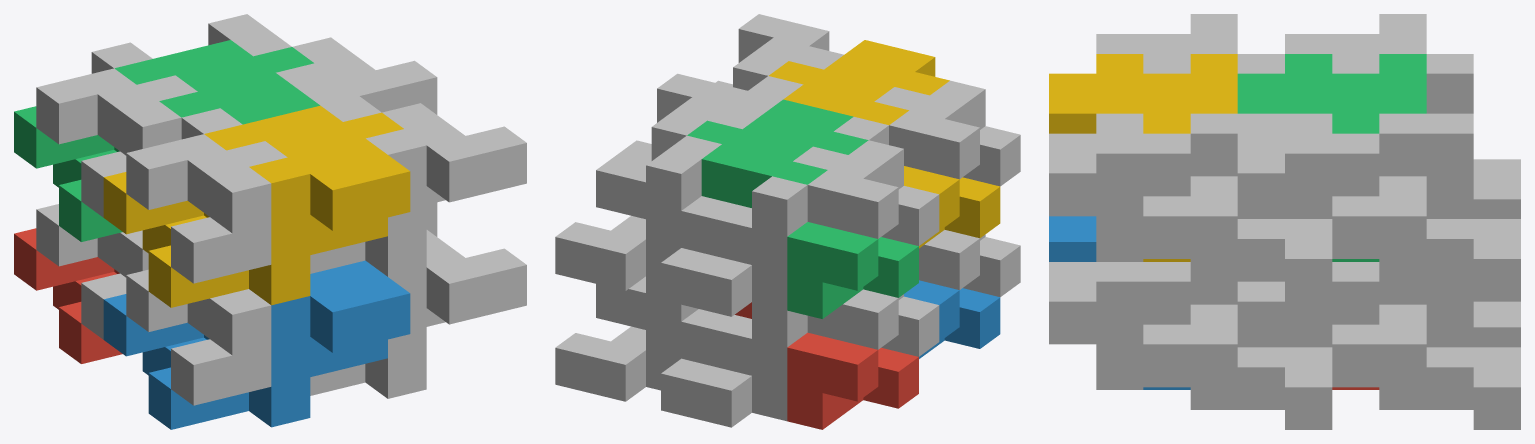
Rendered from tiling.obj.
The picture shows the model from 3 angles, left to right: view 1: azimuth 30°, elevation 25°; view 2: azimuth 150°, elevation 25°; view 3: azimuth 270°, elevation 25°; orthographic projection. The views are drawn at different scales.
Visible parts, largest first — view 1: copy_2_domain_4, copy_4_domain_4, copy_4_domain_8, copy_4_domain_2, copy_2_domain_2, copy_4_domain_6, copy_2_domain_3, copy_1_domain_4, copy_1_domain_2, copy_1_domain_3, copy_2_domain_8, copy_4_domain_7 (+12 smaller); view 2: copy_3_domain_7, copy_3_domain_5, copy_3_domain_3, copy_2_domain_3, copy_1_domain_3, copy_2_domain_4, copy_3_domain_1, copy_1_domain_1, copy_2_domain_1, copy_2_domain_7, copy_4_domain_7, copy_2_domain_2 (+11 smaller); view 3: copy_4_domain_8, copy_3_domain_7, copy_4_domain_6, copy_3_domain_5, copy_4_domain_7, copy_3_domain_8, copy_3_domain_6, copy_4_domain_5, copy_4_domain_4, copy_3_domain_3, copy_2_domain_7, copy_2_domain_8 (+12 smaller).
Part boxes in pixels (box(x1,y1,x2,y2)): copy_2_domain_4: box(126, 134, 287, 283); copy_4_domain_4: box(249, 131, 410, 305); copy_4_domain_8: box(365, 103, 526, 276); copy_4_domain_2: box(249, 270, 410, 427); copy_2_domain_2: box(126, 269, 271, 405); copy_4_domain_6: box(365, 230, 526, 398); copy_2_domain_3: box(36, 68, 197, 217); copy_1_domain_4: box(103, 124, 264, 307); copy_1_domain_2: box(103, 294, 248, 429); copy_1_domain_3: box(14, 59, 174, 241); copy_2_domain_8: box(243, 105, 403, 254); copy_4_domain_7: box(276, 37, 437, 114); copy_3_domain_7: box(555, 150, 701, 290); copy_3_domain_5: box(555, 276, 698, 401); copy_3_domain_3: box(661, 176, 807, 316); copy_2_domain_3: box(793, 140, 939, 245); copy_1_domain_3: box(773, 161, 918, 318); copy_2_domain_4: box(874, 80, 1020, 186); copy_3_domain_1: box(661, 302, 807, 427); copy_1_domain_1: box(787, 332, 918, 429); copy_2_domain_1: box(807, 289, 939, 356); copy_2_domain_7: box(687, 114, 797, 207); copy_4_domain_7: box(616, 73, 762, 162); copy_2_domain_2: box(919, 230, 1020, 297); copy_4_domain_8: box(1049, 113, 1190, 261); copy_3_domain_7: box(1379, 113, 1520, 301); copy_4_domain_6: box(1049, 262, 1190, 389); copy_3_domain_5: box(1379, 281, 1520, 429); copy_4_domain_7: box(1237, 113, 1379, 258); copy_3_domain_8: box(1190, 113, 1332, 301); copy_3_domain_6: box(1190, 304, 1332, 429); copy_4_domain_5: box(1237, 262, 1379, 387); copy_4_domain_4: box(1049, 54, 1190, 133); copy_3_domain_3: box(1426, 54, 1520, 218); copy_2_domain_7: box(1285, 73, 1426, 261); copy_2_domain_8: box(1096, 73, 1237, 261).
Bounding box in the file's own units: 8 × 6 × 10.
